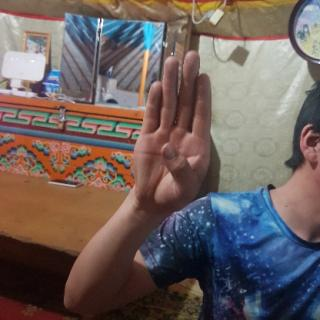KAAF: (127, 47, 218, 217)
